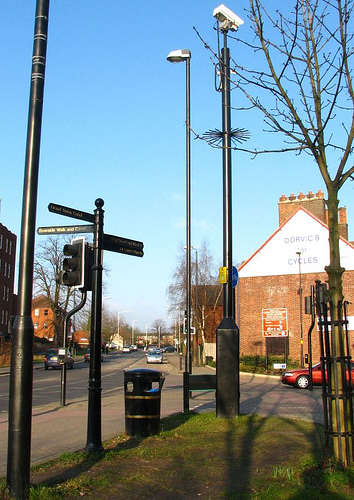Car: (44, 345, 76, 368), (143, 347, 164, 370)
Traffic light: (58, 239, 91, 298)
